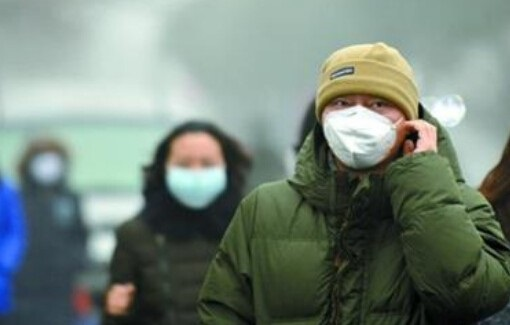face_mask: (324, 81, 399, 168), (168, 137, 222, 209)
